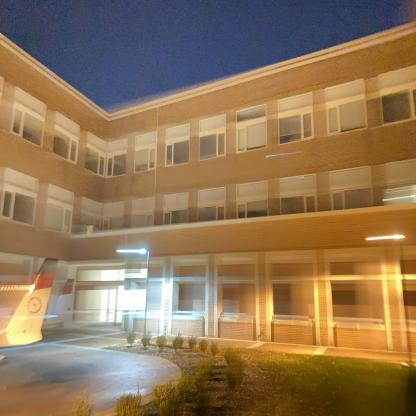eb2: (6, 45, 412, 346)
